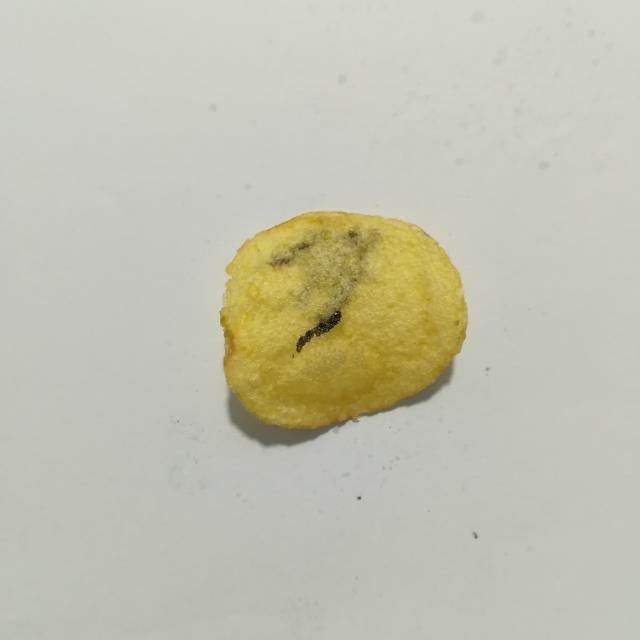chip: (220, 211, 467, 428)
damaged: (296, 310, 342, 352), (292, 354, 294, 358)
semi-damaged: (270, 228, 381, 320)
